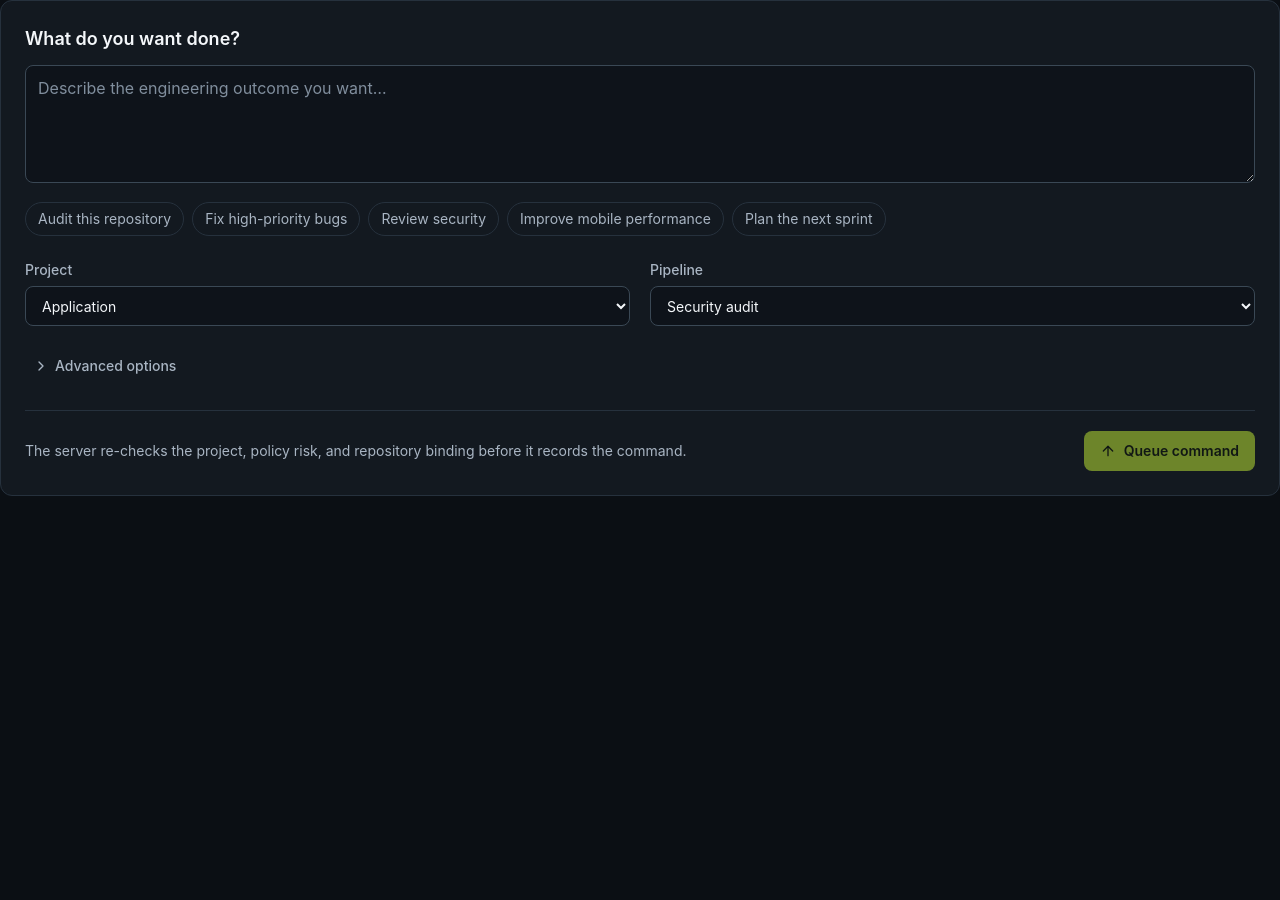
Test: CommandComposer › queues a goal from the simple view alone with the safe defaults
Expected: the dropdown labelled "Pipeline" shows "Security audit", [650, 286, 1255, 326]
In the text box labelled "What do you want done?": (640, 124) [25, 65, 1255, 183], type "Make onboarding effortless"
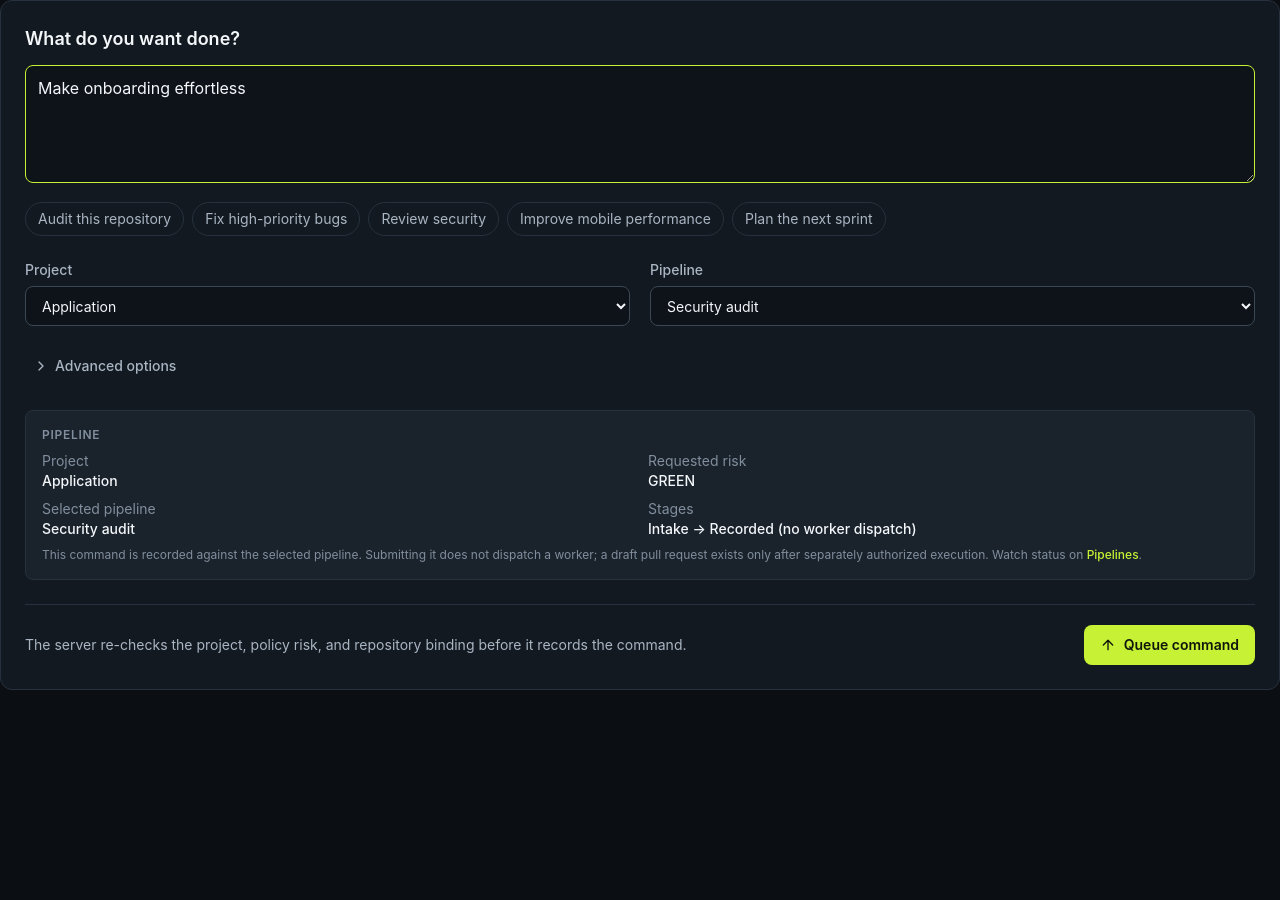
Click the button "Queue command": (1169, 645) [1084, 625, 1255, 665]
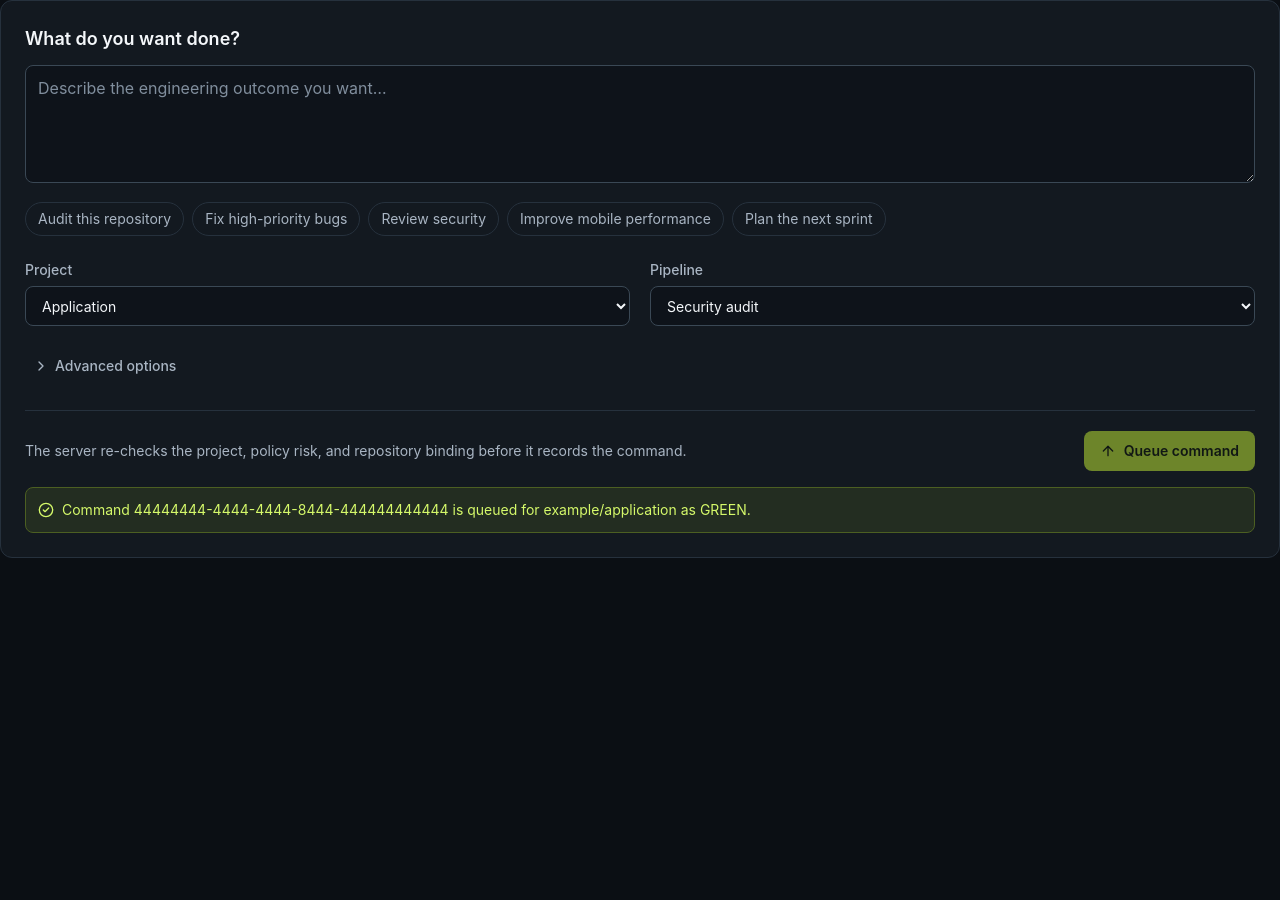
Expected: the text "is queued for example/application as GREEN" is shown, [62, 501, 751, 518]
